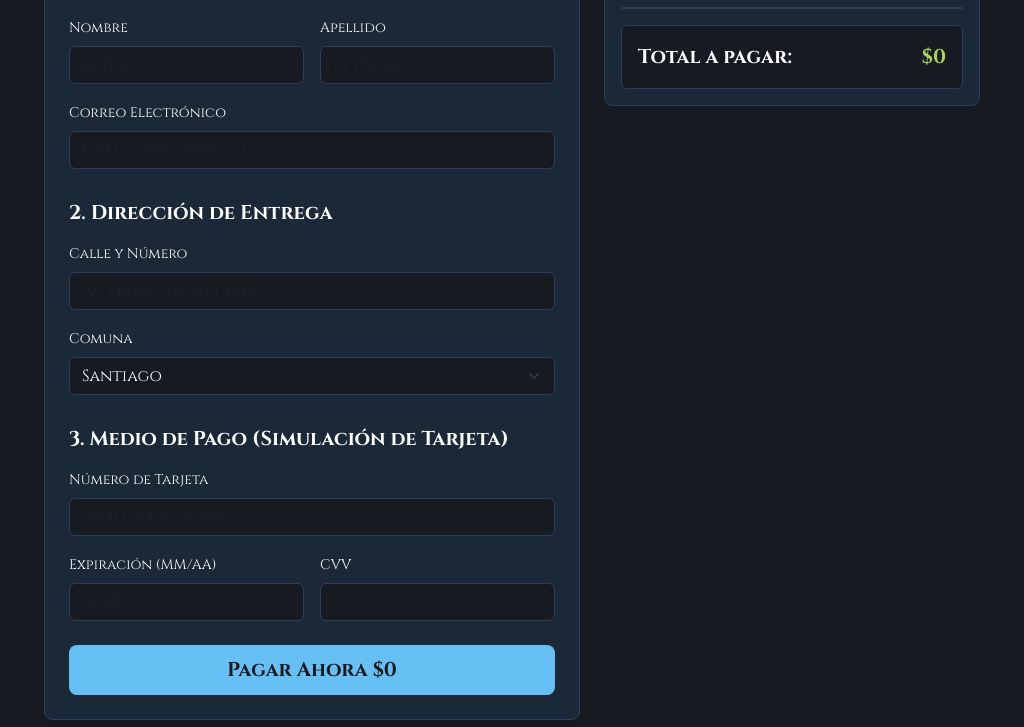
Pruebas Unitarias de Componentes (Requerimientos 7 al 10) › 9. FormularioCheckout muestra mensajes de error al enviar campos vacíos
This screenshot has width=1024, height=727.
(page scrolled)
Click the button "Pagar Ahora $0".
click(312, 670)  # box [69, 645, 555, 695]
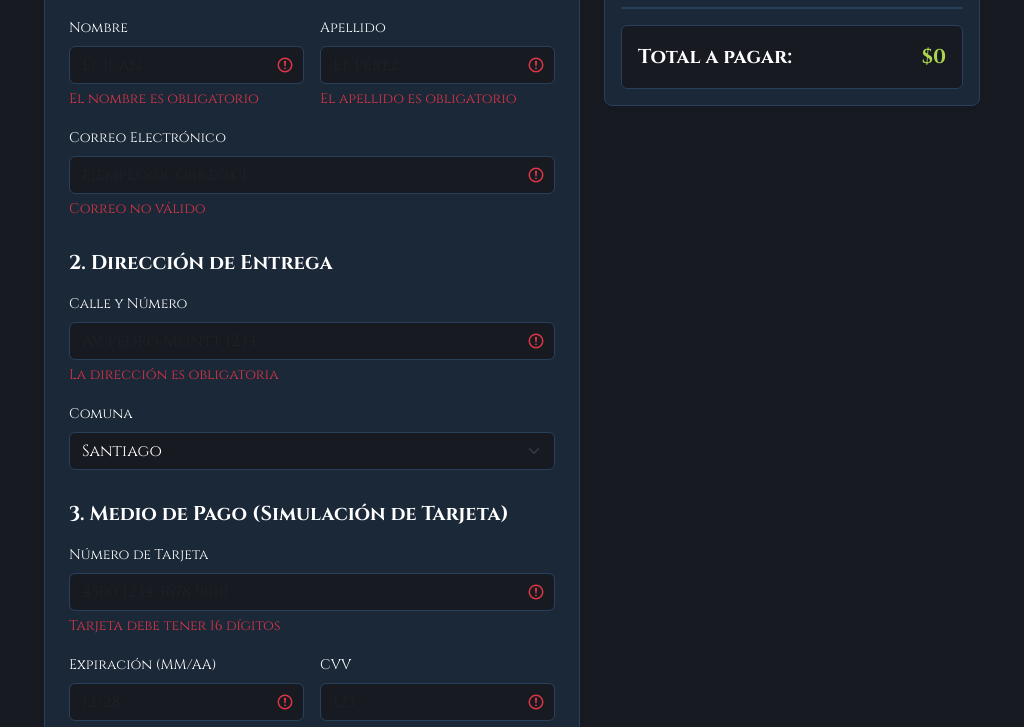
Expected: the text "El nombre es obligatorio" is shown, [69, 89, 259, 108]
Expected: the text "El apellido es obligatorio" is shown, [320, 89, 516, 108]
